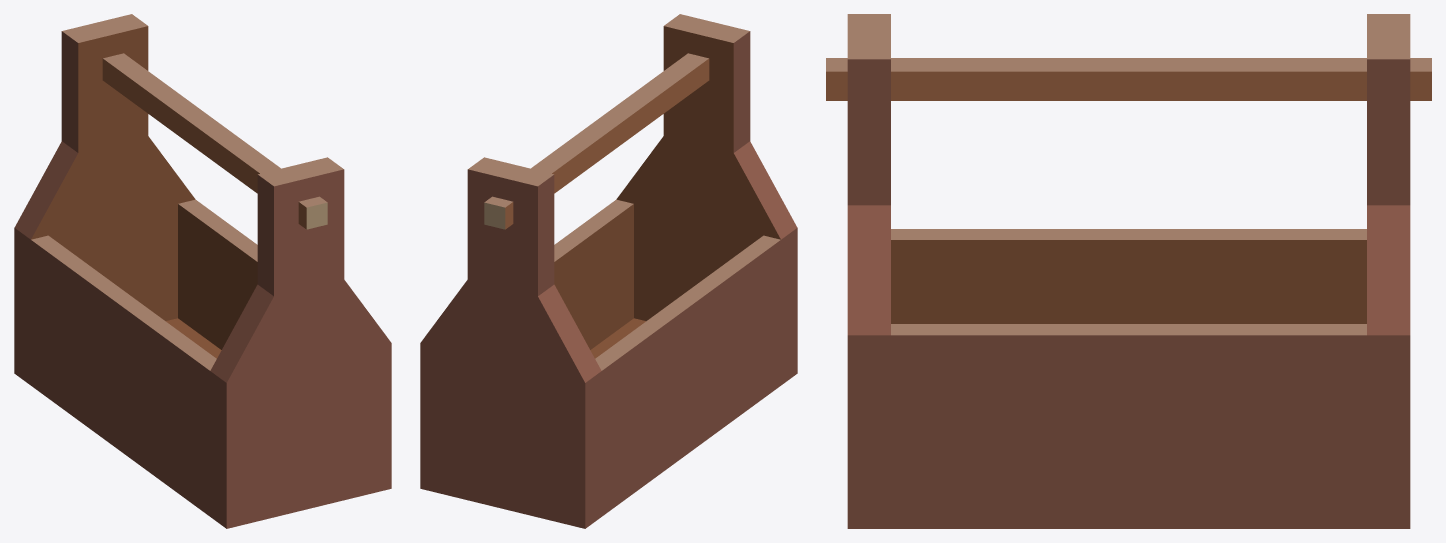
Rendered from TB_Prop_Toolbox_A.FBX.
The picture shows the model from 3 angles, left to right: view 1: azimuth 30°, elevation 25°; view 2: azimuth 150°, elevation 25°; view 3: azimuth 270°, elevation 25°; orthographic projection. The views are drawn at different scales.
Parts seen in each view (by area): view 1: TB_Prop_Toolbox_A; view 2: TB_Prop_Toolbox_A; view 3: TB_Prop_Toolbox_A.
Boxes of the visible parts, bbox=[...] form: TB_Prop_Toolbox_A: bbox=[14, 14, 391, 528]; TB_Prop_Toolbox_A: bbox=[420, 14, 797, 528]; TB_Prop_Toolbox_A: bbox=[826, 14, 1431, 528].
Size of the model in its own units: 0.5473 by 1.05 by 1.31.
